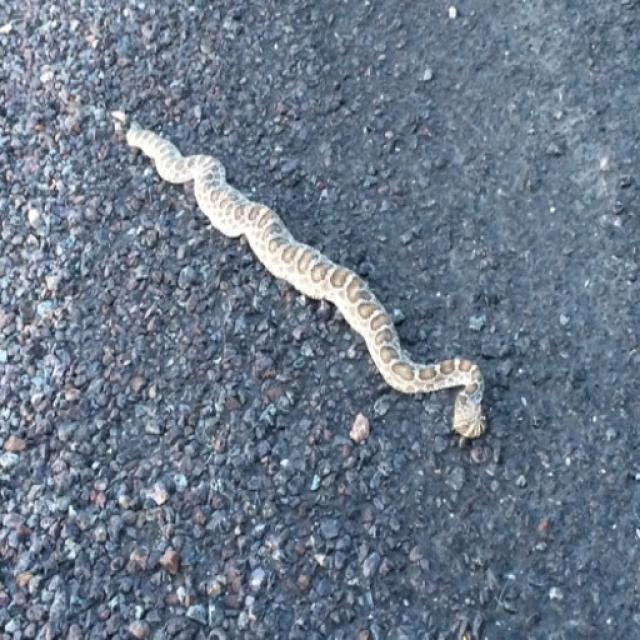snake: (116, 107, 505, 446)
